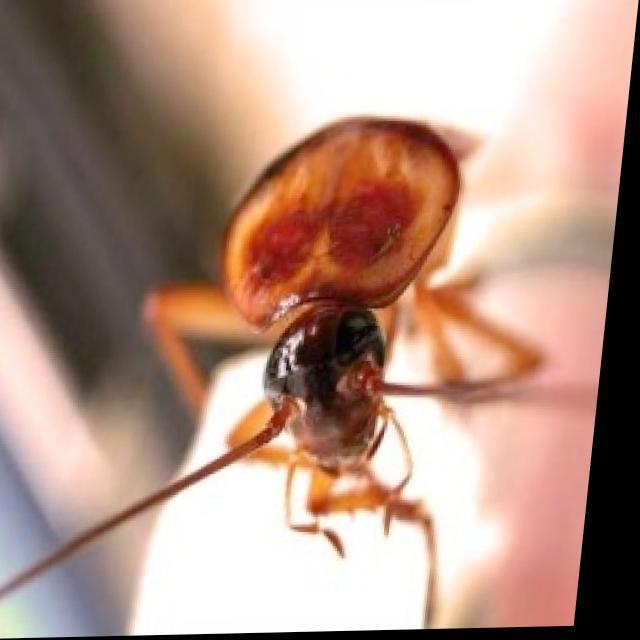cockroach: (199, 73, 516, 552)
